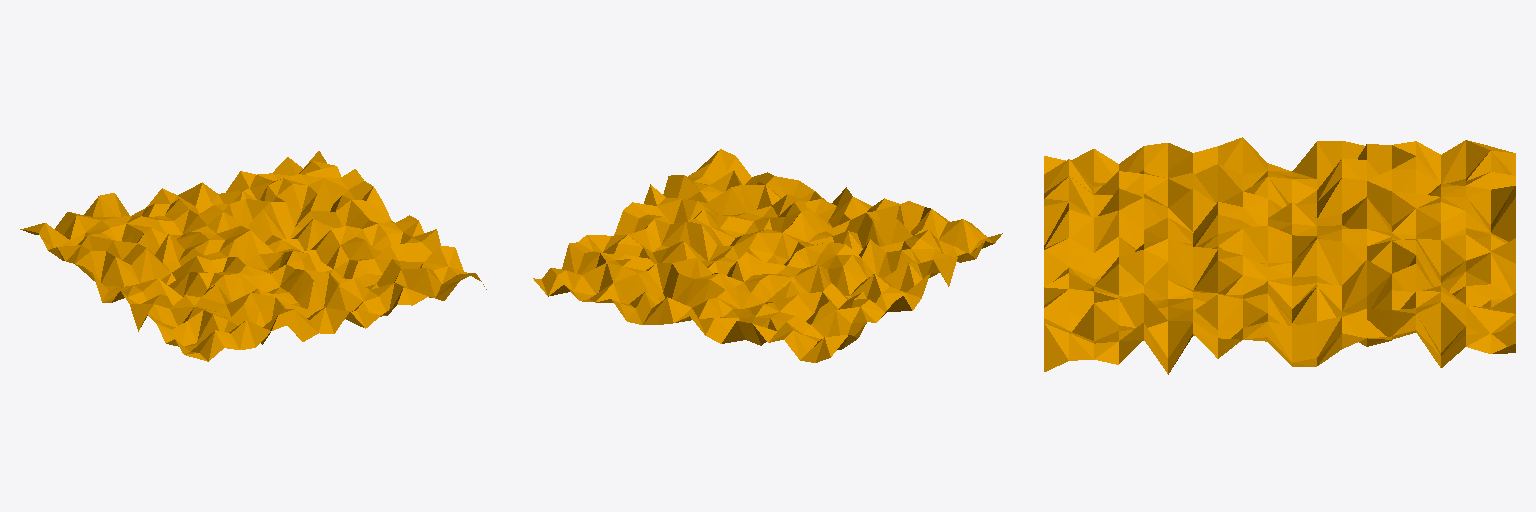
URDF robot description (terrain):
<?xml version="1.0"?>
<robot name="terrain">
    <link name="test_trimesh">
    <visual name="test_trimesh_visual">
        <geometry>
            <mesh filename="test_trimesh.obj"/>
        </geometry>
    </visual>
    <collision name="test_trimesh_visual">
        <geometry>
            <mesh filename="test_trimesh.obj"/>
        </geometry>
    </collision>
    </link>
</robot>

--- What the picture shows (computed from the rendered views, not written in the file) ---
The picture shows the robot from 3 angles, left to right: view 1: azimuth 30°, elevation 25°; view 2: azimuth 150°, elevation 25°; view 3: azimuth 270°, elevation 25°; orthographic projection.
Model terrain with 1 links and 0 joints (none), rooted at test_trimesh, posed every joint at zero.
Links seen in each view (by area): view 1: test_trimesh; view 2: test_trimesh; view 3: test_trimesh.
Link boxes in pixels (x1,y1,x2,y2): test_trimesh: [20, 151, 486, 361]; test_trimesh: [533, 149, 1002, 362]; test_trimesh: [1044, 137, 1515, 374].
Bounding box of the posed robot: 1 × 1 × 0.0997 m (x, y, z).
1 mesh visuals loaded from 1 distinct referenced files (1 OBJ).